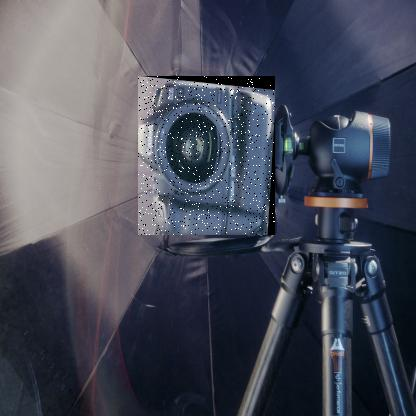Camera: (139, 77, 277, 237)
